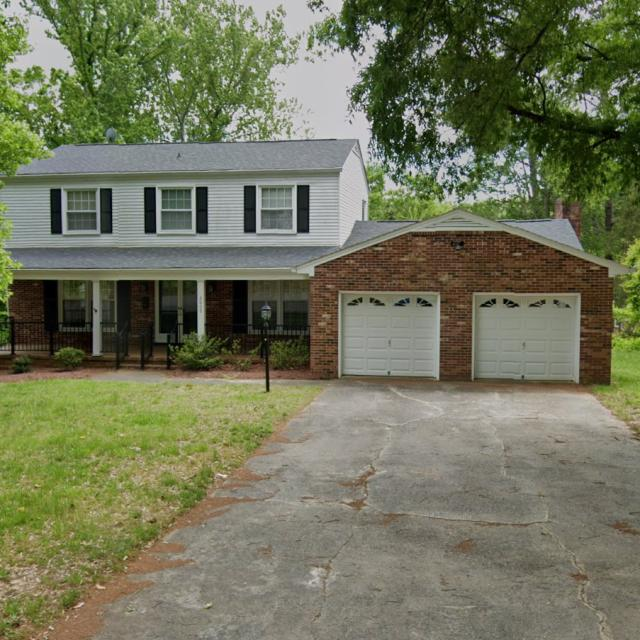House: (0, 140, 638, 384)
